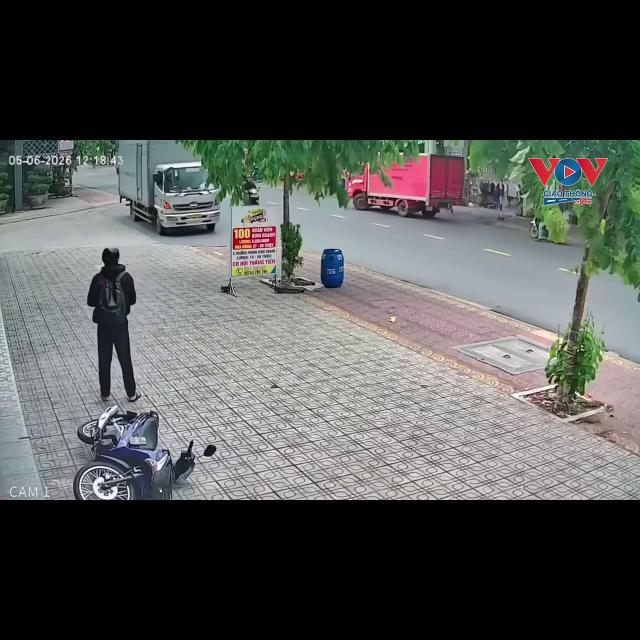motorcycle: (73, 406, 195, 499), (104, 411, 137, 432), (244, 174, 259, 205), (529, 217, 548, 240), (528, 217, 540, 239)
truck: (116, 140, 219, 234), (347, 154, 464, 218)
